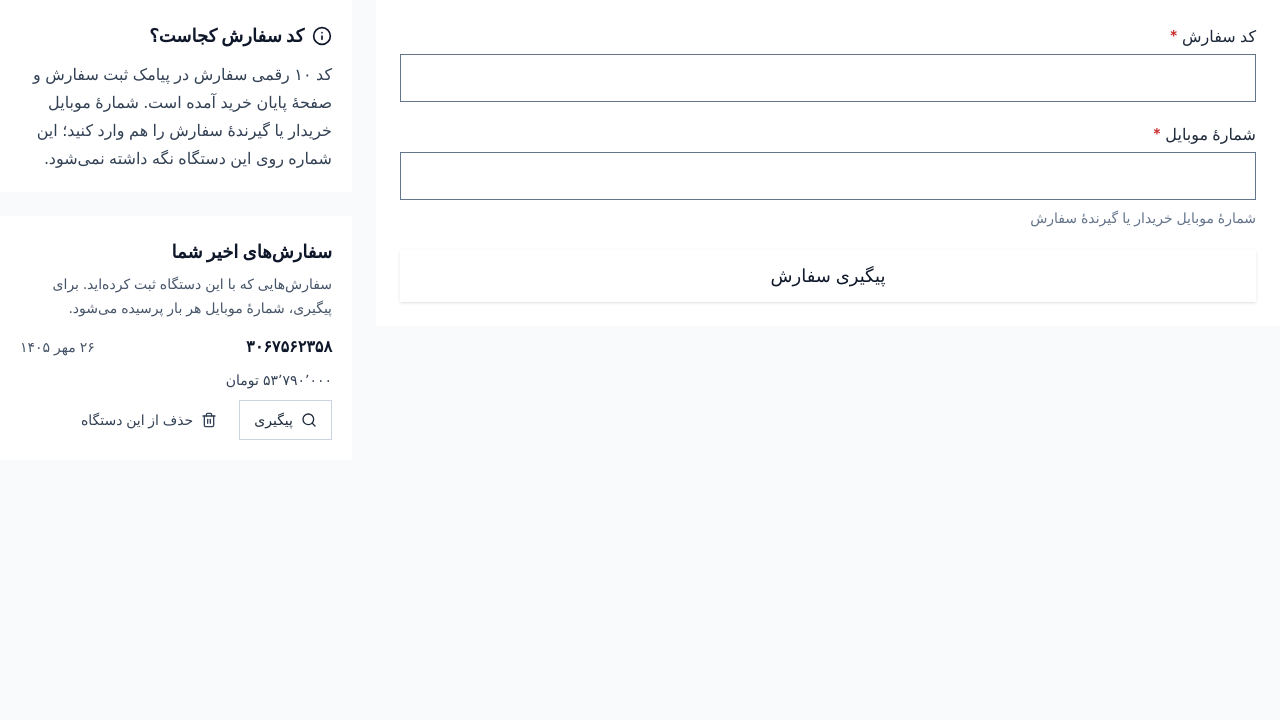
the recent guest orders of this device › the mobile typed is never kept on the device
Type "3067562358" into the field labelled "کد سفارش *" at (828, 78), box [401,55,1255,101]
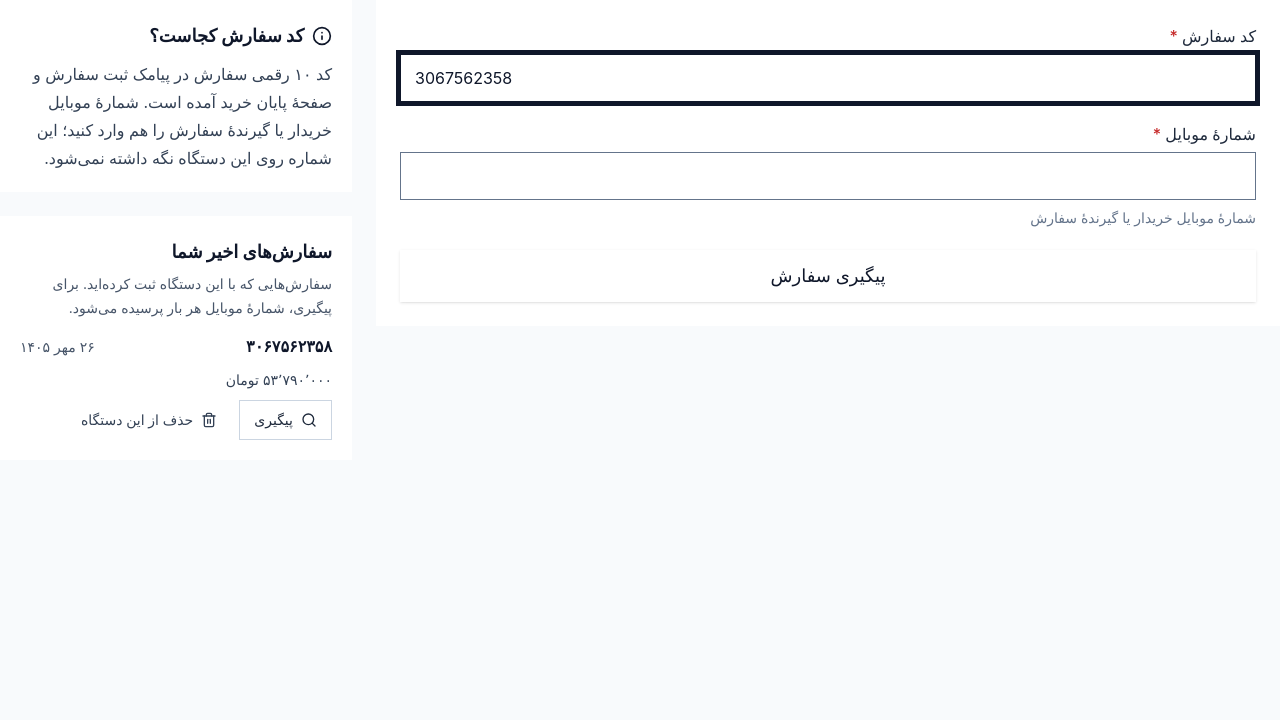
Type "09121234501" into the field labelled "شمارهٔ موبایل *" at (828, 176), box [401,153,1255,199]
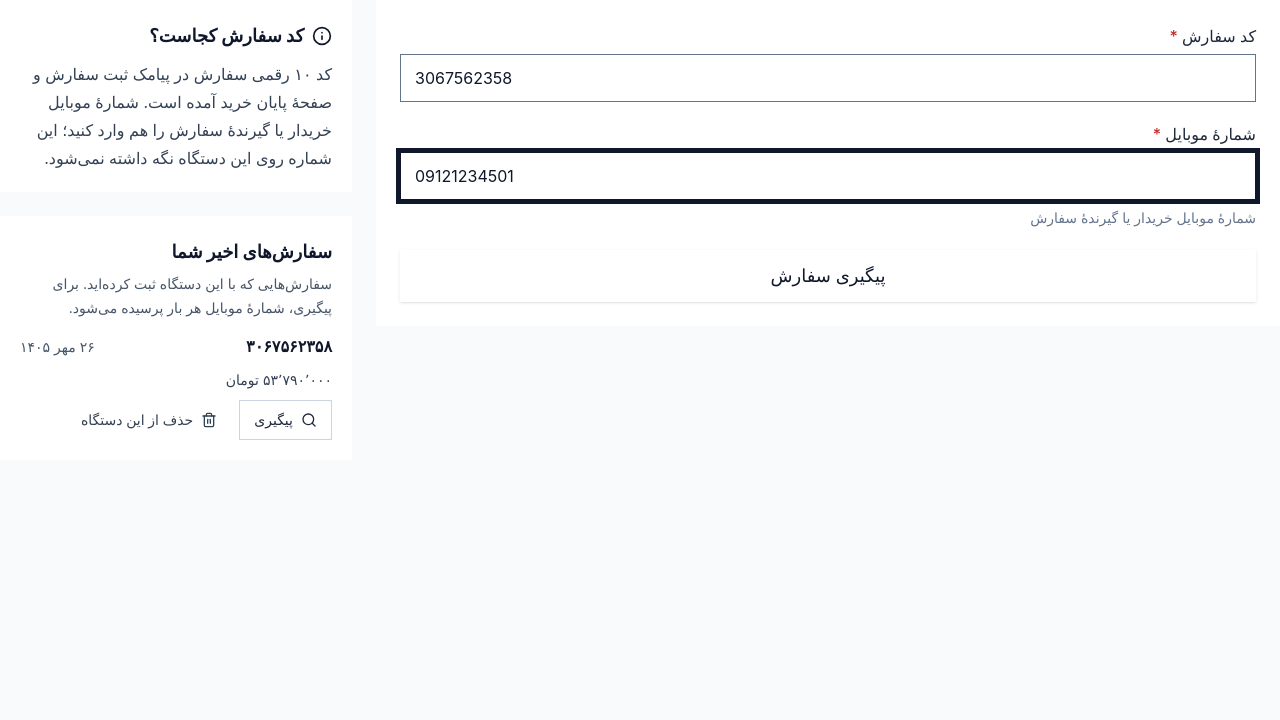
Click the button "پیگیری سفارش" at (828, 276), box [400,250,1256,302]
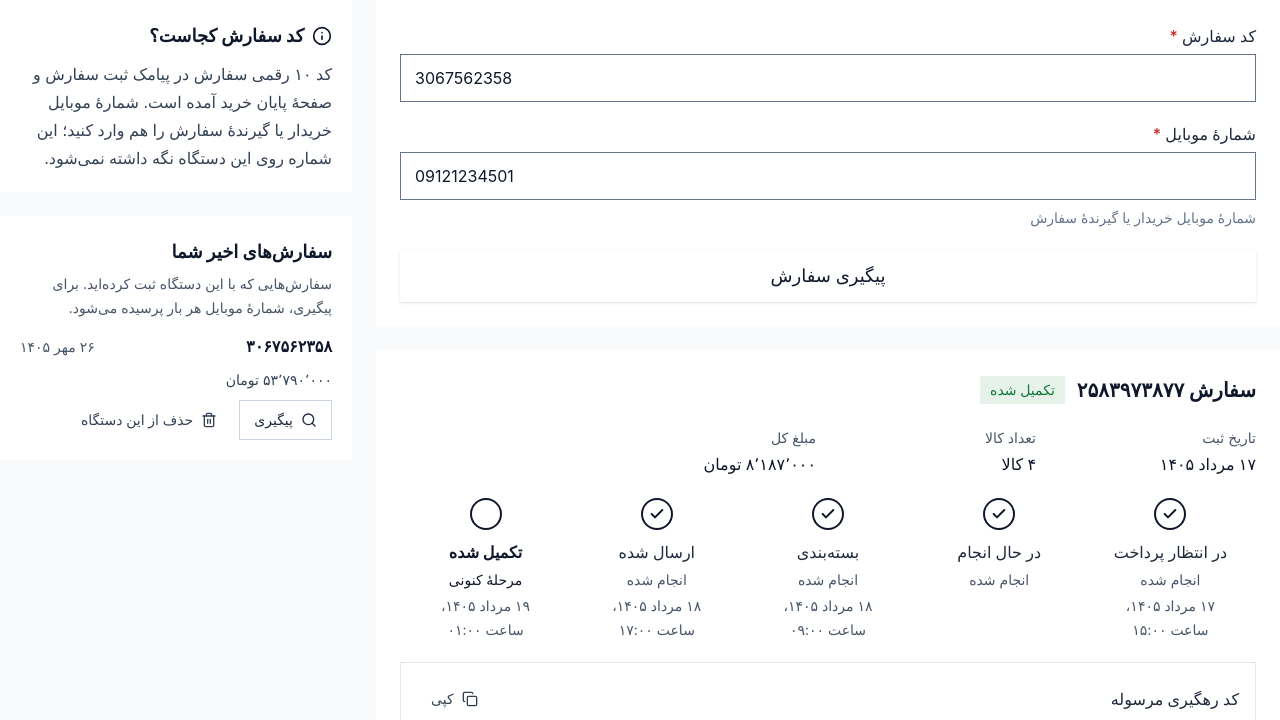
Expected: the heading "سفارش ۲۵۸۳۹۷۳۸۷۷ تکمیل شده" is shown, [980,376,1256,404]
